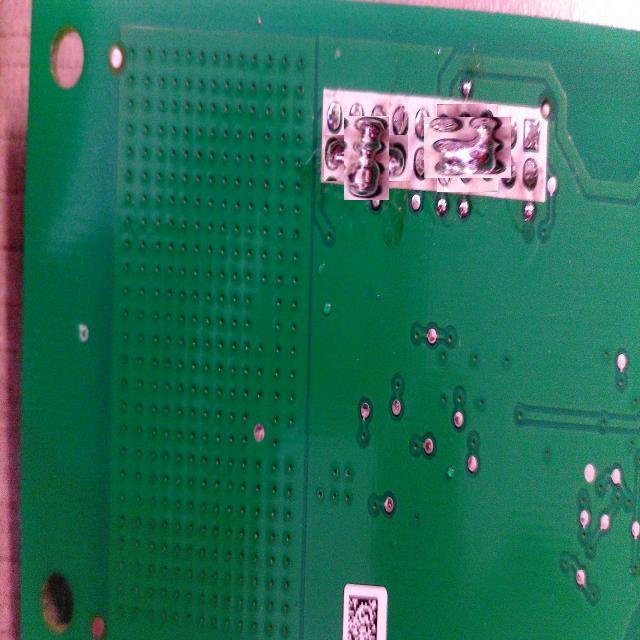Short_circuit: (430, 111, 505, 185), (333, 126, 399, 190)
